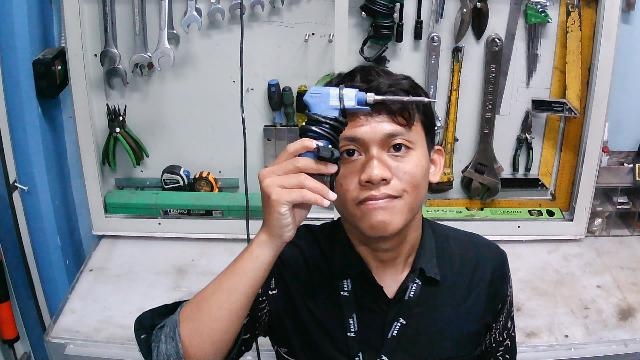solder_electrical: (298, 86, 437, 188)
